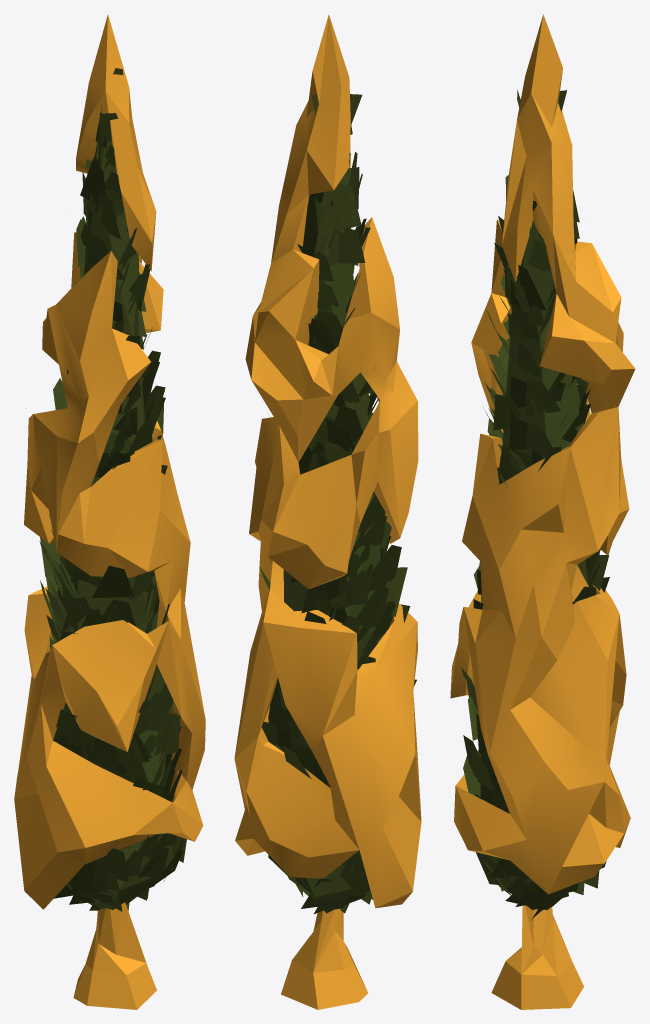
File: SM_Tree_Cypress_Mature_A_Snow.fbx
3 views of the same model, side by side, from view 1: azimuth 30°, elevation 25°; view 2: azimuth 150°, elevation 25°; view 3: azimuth 270°, elevation 25° (orthographic).
Parts seen in each view (by area): view 1: tree-cypress-mature-a-snow; view 2: tree-cypress-mature-a-snow; view 3: tree-cypress-mature-a-snow.
Part boxes in pixels (x1,y1,x2,y2): tree-cypress-mature-a-snow: [14, 15, 205, 1009]; tree-cypress-mature-a-snow: [234, 14, 421, 1009]; tree-cypress-mature-a-snow: [450, 14, 635, 1009].
Bounding box in the file's own units: 1.44 × 8.09 × 1.39.
